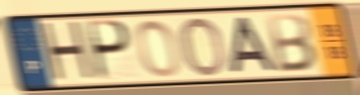A: (227, 15, 280, 75)
B: (265, 12, 319, 74)
H: (38, 19, 98, 86)
O: (179, 15, 229, 79), (134, 18, 182, 80)
P: (87, 18, 134, 83)
